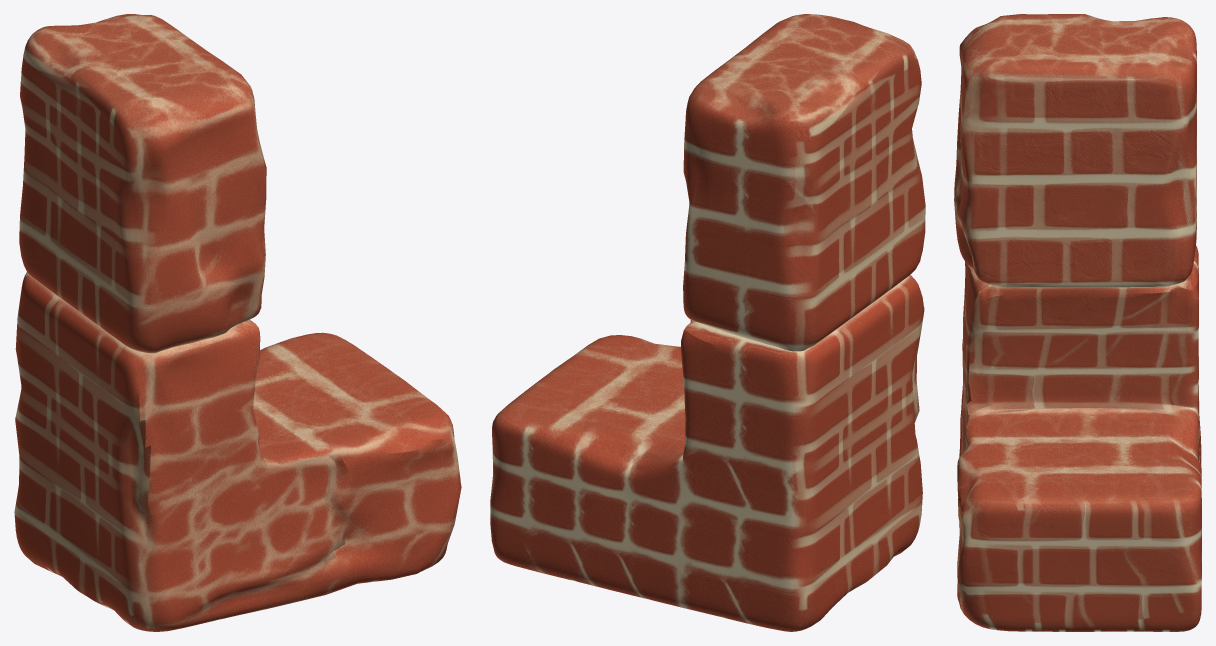
File: brick_L_redbrick.glb
3 renders of one model, left to right at view 1: azimuth 30°, elevation 25°; view 2: azimuth 150°, elevation 25°; view 3: azimuth 270°, elevation 25°, orthographic. The views are drawn at different scales.
Visible parts, largest first — view 1: Mesh_0; view 2: Mesh_0; view 3: Mesh_0.
Part boxes in pixels (x1,y1,x2,y2): Mesh_0: [14, 14, 461, 631]; Mesh_0: [490, 14, 925, 631]; Mesh_0: [954, 14, 1201, 631].
Size of the model in its own units: 1.23 by 1.9 by 0.8782.
1 material, 1 textured.
